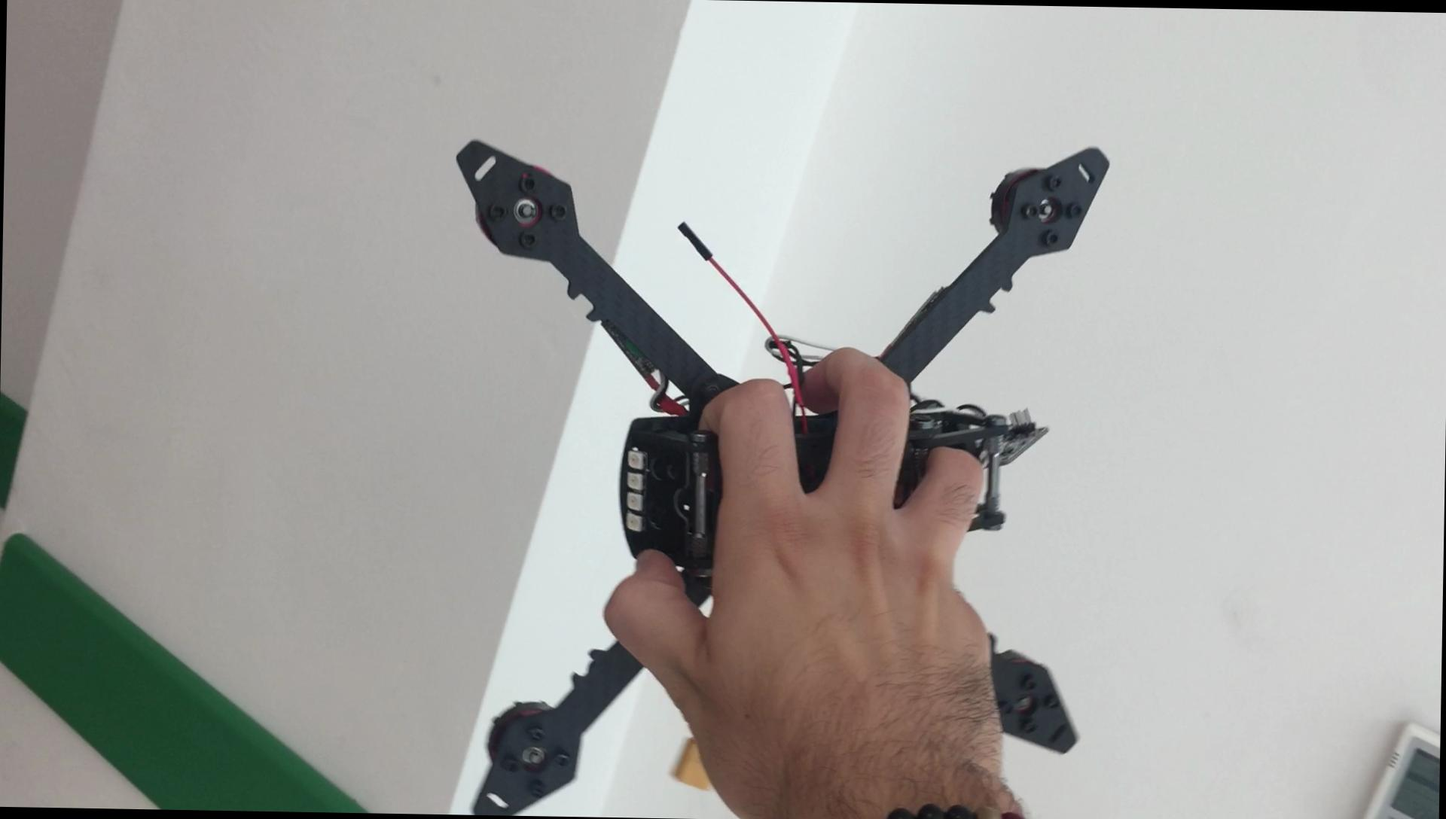drone: (432, 108, 1149, 819)
